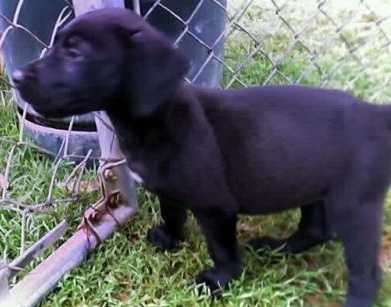dog: (0, 2, 387, 276)
